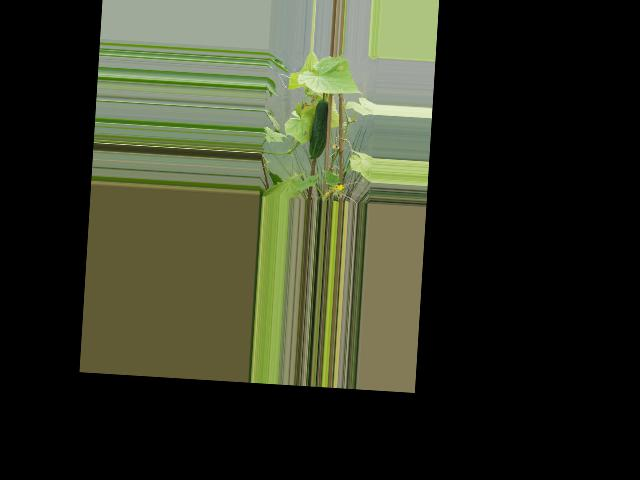cucumber: (308, 98, 329, 159)
